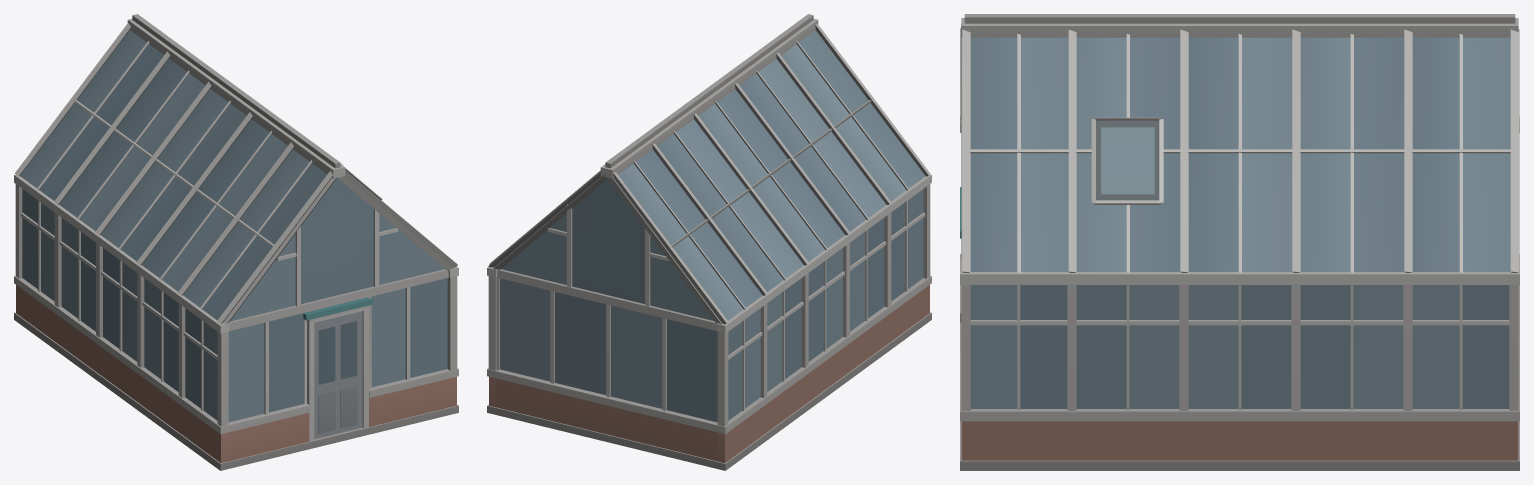
File: glass.lod1.glb
3 renders of one model, left to right at view 1: azimuth 30°, elevation 25°; view 2: azimuth 150°, elevation 25°; view 3: azimuth 270°, elevation 25°, orthographic. The views are drawn at different scales.
Size of the model in its own units: 6.42 by 7.12 by 9.6.
